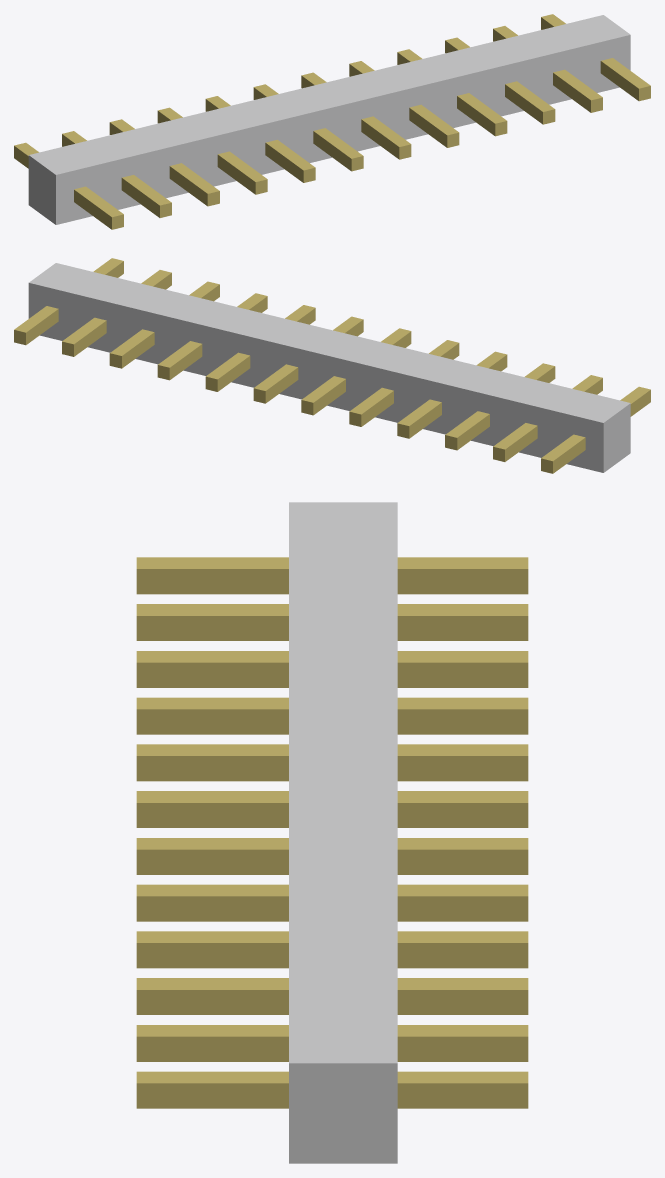
File: pin_header_254_12pin.glb
3 renders of one model, top to bottom at view 1: azimuth 30°, elevation 25°; view 2: azimuth 150°, elevation 25°; view 3: azimuth 270°, elevation 25°, orthographic. The views are drawn at different scales.
Parts seen in each view (by area): view 1: housing, pins; view 2: housing, pins; view 3: pins, housing.
Boxes of the visible parts, <box> form: housing: <box>28,15,630,224</box>; pins: <box>14,14,650,229</box>; housing: <box>28,263,630,472</box>; pins: <box>14,258,650,473</box>; pins: <box>136,557,528,1108</box>; housing: <box>289,502,397,1163</box>.
Bounding box in the file's own units: 30.48 × 2.54 × 9.
